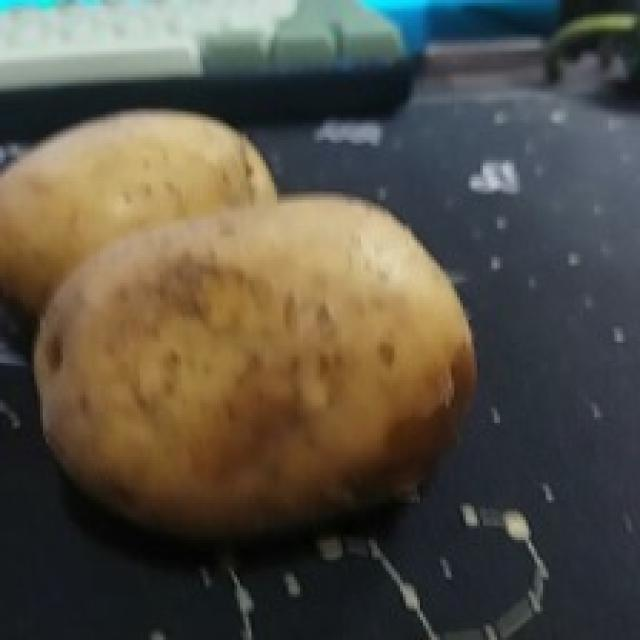Potato: (30, 192, 479, 553), (0, 111, 277, 319)
